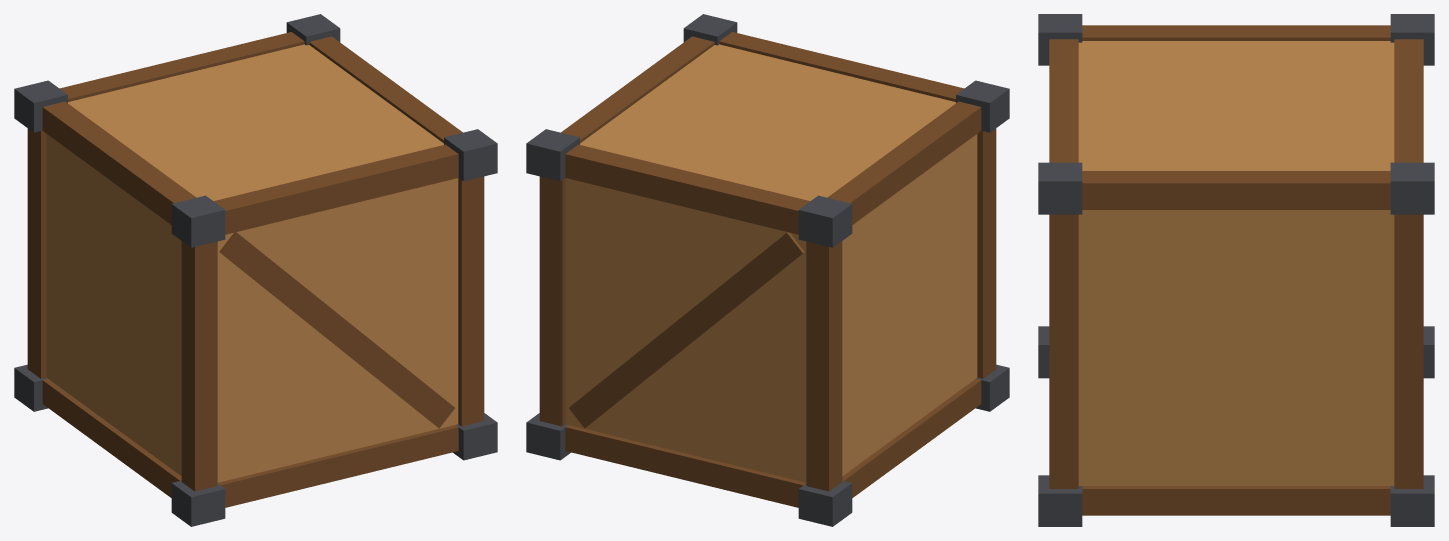
Rendered from wooden-crate.glb.
3 renders of one model, left to right at view 1: azimuth 30°, elevation 25°; view 2: azimuth 150°, elevation 25°; view 3: azimuth 270°, elevation 25°, orthographic. The views are drawn at different scales.
Visible parts, largest first — view 1: wooden-crate; view 2: wooden-crate; view 3: wooden-crate.
Part boxes in pixels (x1,y1,x2,y2): wooden-crate: (14,14,497,526); wooden-crate: (526,14,1009,526); wooden-crate: (1038,14,1434,526).
Bounding box in the file's own units: 1.08 × 1.04 × 1.08.
